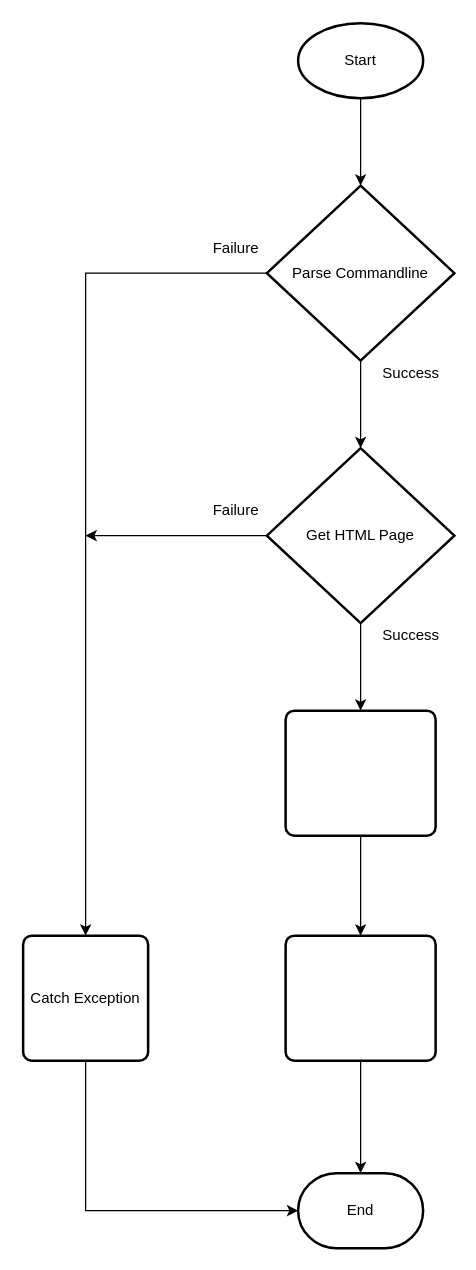
Some shapes in this 476 by 1270 pixel diagram are drawn without their labels. Each missing label, with the box of its shape:
Analyse HTML Page: (284, 709, 436, 836)
Output Results: (284, 934, 436, 1061)
